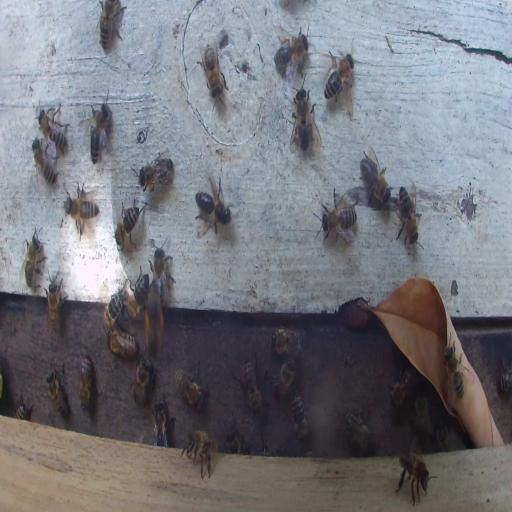nonpollenbee: (314, 188, 358, 246), (62, 181, 100, 239), (195, 176, 232, 233), (395, 450, 434, 504), (359, 146, 392, 208), (290, 85, 318, 154), (274, 24, 310, 76), (88, 88, 112, 166), (182, 427, 218, 478), (395, 183, 421, 245), (137, 152, 175, 194), (324, 49, 355, 100), (342, 402, 374, 451), (150, 239, 175, 301), (44, 271, 67, 338), (38, 106, 70, 154), (198, 42, 224, 100), (236, 357, 262, 412), (22, 226, 45, 288), (97, 0, 124, 50), (113, 204, 142, 250), (174, 368, 204, 408), (444, 342, 464, 401), (46, 367, 69, 418), (32, 139, 58, 184), (388, 366, 414, 408), (269, 358, 296, 398), (129, 269, 150, 317), (132, 356, 152, 406), (290, 393, 309, 442), (152, 399, 171, 447), (270, 327, 303, 354), (101, 286, 123, 326), (413, 391, 431, 438), (108, 329, 138, 357), (78, 352, 92, 409), (434, 422, 449, 452), (499, 360, 511, 395), (226, 430, 244, 453), (16, 401, 32, 419)
pollenbee: (144, 296, 165, 359)
